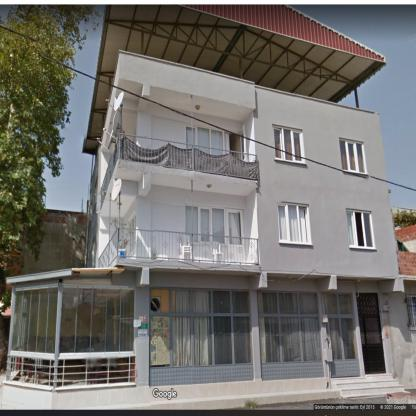door: (357, 293, 385, 374), (226, 208, 245, 262), (241, 137, 246, 161), (240, 124, 244, 136)
window: (149, 288, 252, 370), (58, 284, 134, 355), (258, 290, 322, 365), (10, 285, 59, 355), (325, 294, 360, 376), (193, 205, 227, 246), (277, 204, 310, 243), (347, 210, 374, 248), (273, 124, 302, 157), (193, 126, 225, 155), (340, 139, 365, 172), (275, 150, 302, 162), (128, 215, 135, 253), (185, 204, 191, 245), (408, 296, 415, 329), (186, 125, 192, 149)
